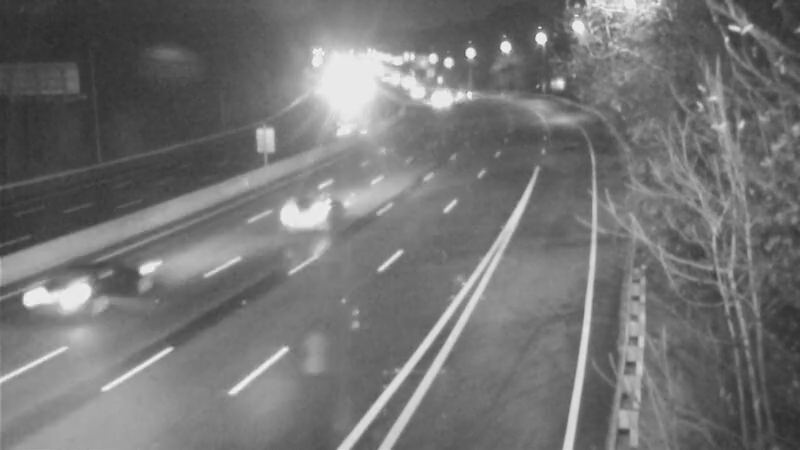vehicle: (261, 176, 341, 256), (24, 256, 104, 336)
